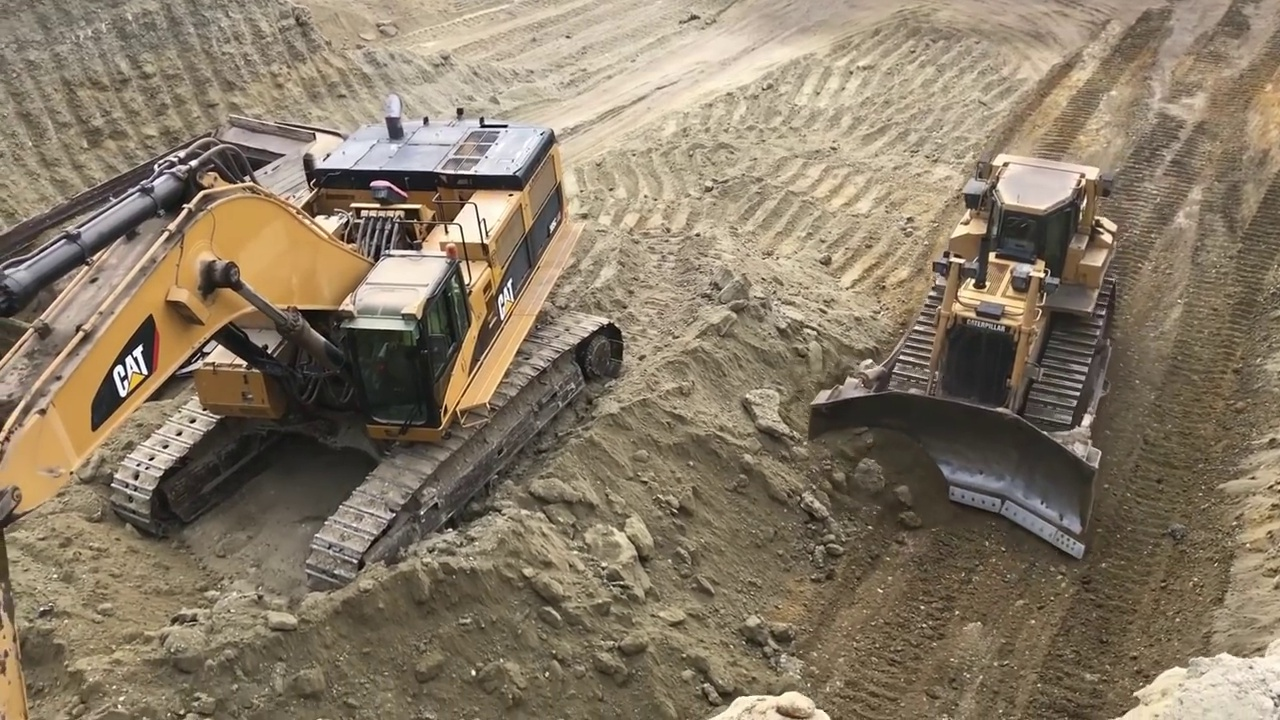bulldozer: (808, 148, 1106, 557)
excavator: (5, 90, 623, 597)
